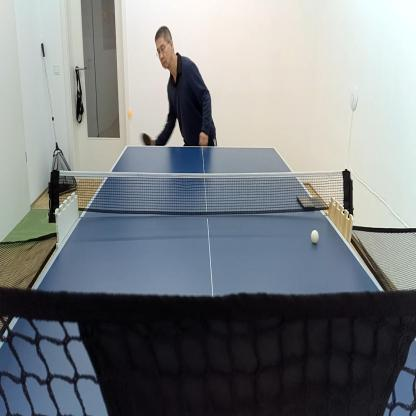Ball: (310, 227, 320, 247), (126, 108, 134, 122)
